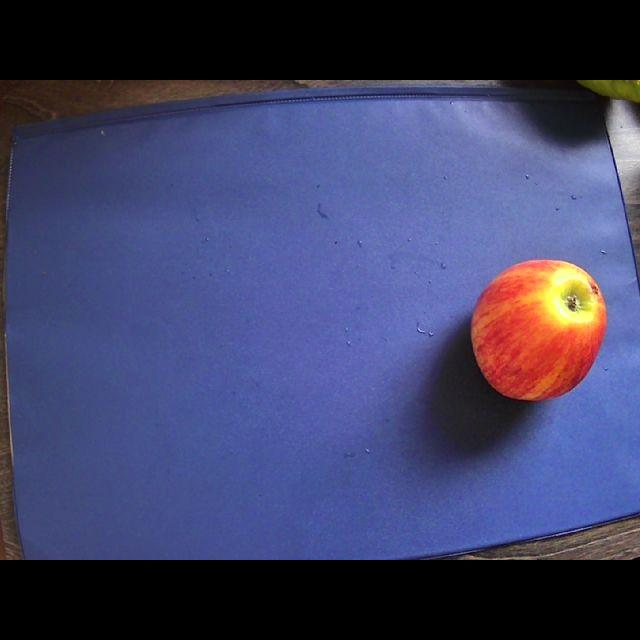manzana: (471, 259, 606, 401)
